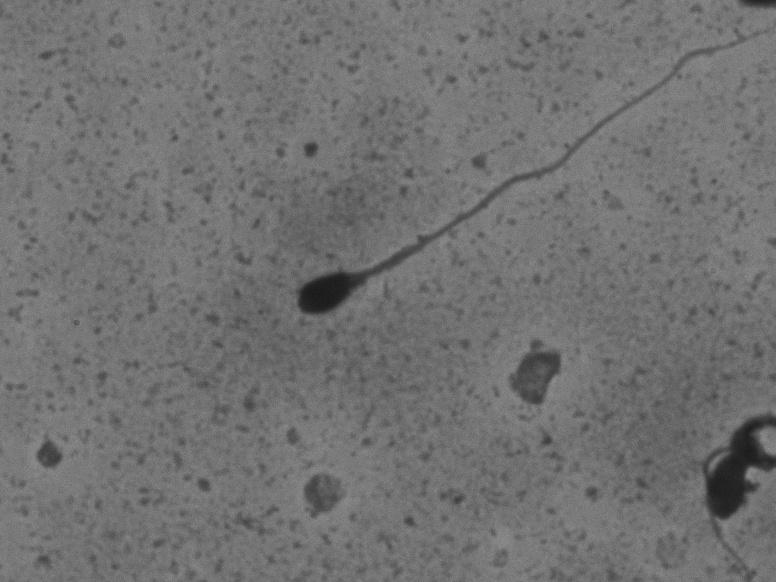Normal: (242, 16, 758, 347)
